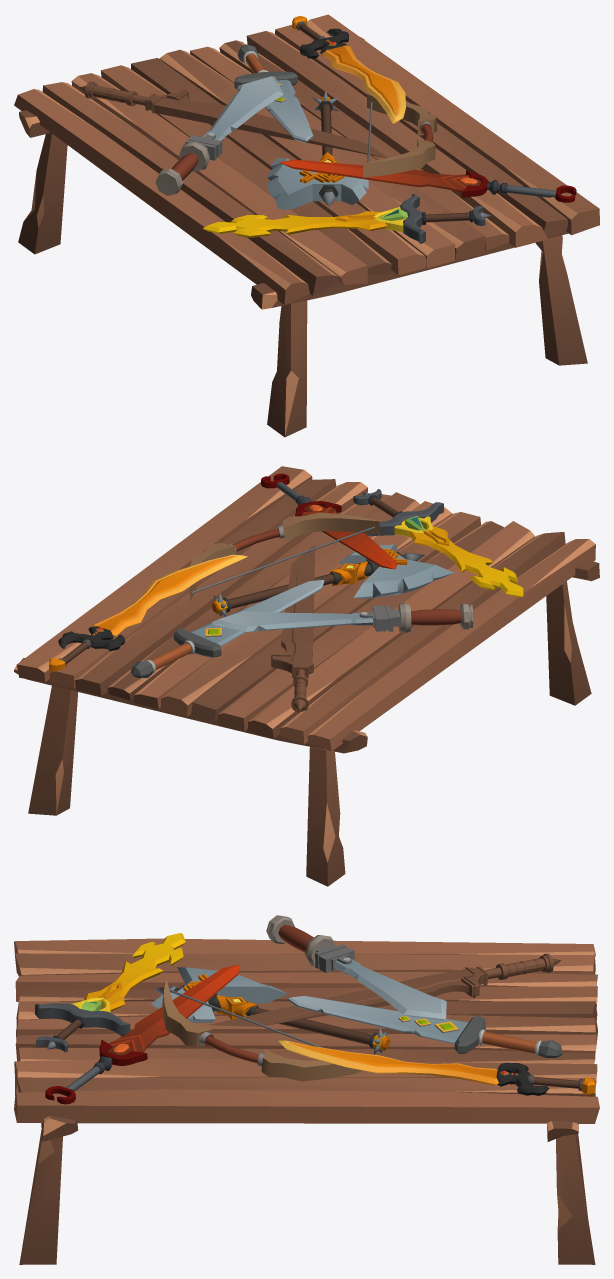
The model's file is table_of_weapons1.fbx.
3 renders of one model, top to bottom at view 1: azimuth 30°, elevation 25°; view 2: azimuth 150°, elevation 25°; view 3: azimuth 270°, elevation 25°, orthographic. The views are drawn at different scales.
Parts seen in each view (by area): view 1: table_of_weapons1; view 2: table_of_weapons1; view 3: table_of_weapons1.
Part boxes in pixels (bbox=[...]): table_of_weapons1: bbox=[14, 14, 599, 437]; table_of_weapons1: bbox=[14, 466, 599, 886]; table_of_weapons1: bbox=[14, 915, 599, 1264].
Bounding box in the file's own units: 22.43 × 11.76 × 30.7.
